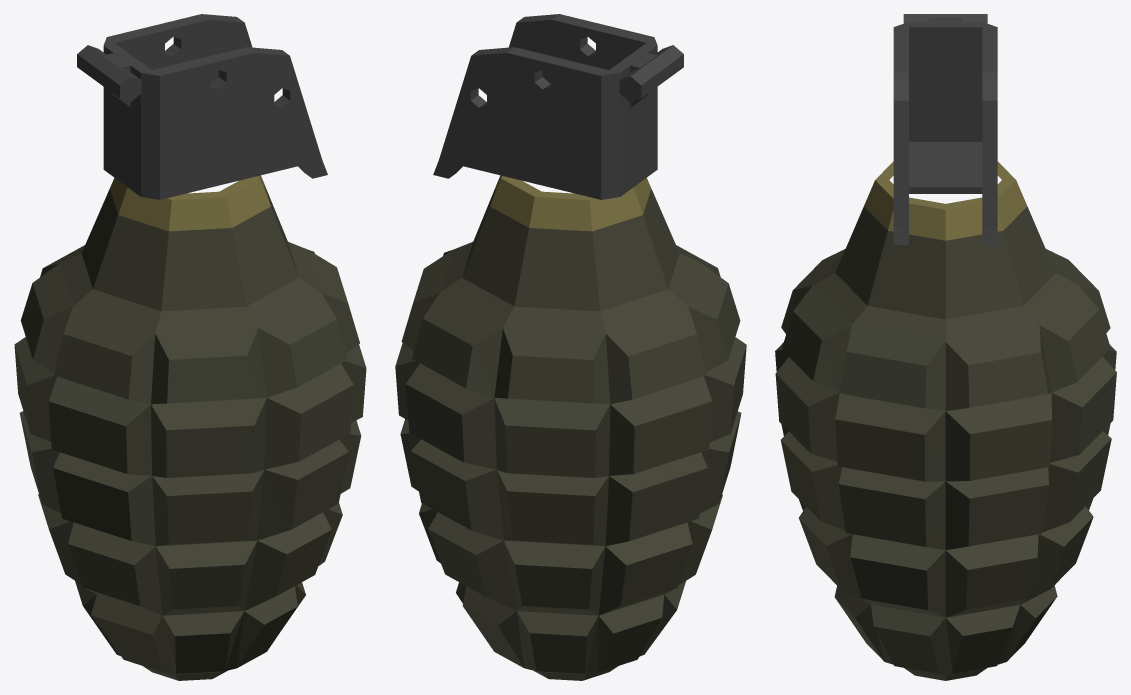
The model's file is grenade_live.glb.
The picture shows the model from 3 angles, left to right: view 1: azimuth 30°, elevation 25°; view 2: azimuth 150°, elevation 25°; view 3: azimuth 270°, elevation 25°; orthographic projection.
Parts seen in each view (by area): view 1: Grenade_Body; view 2: Grenade_Body; view 3: Grenade_Body.
Boxes of the visible parts, x1=… form: Grenade_Body: x1=14, y1=14, x2=366, y2=680; Grenade_Body: x1=395, y1=14, x2=746, y2=680; Grenade_Body: x1=775, y1=14, x2=1116, y2=680.
Size of the model in its own units: 2.27 by 4.43 by 2.25.
